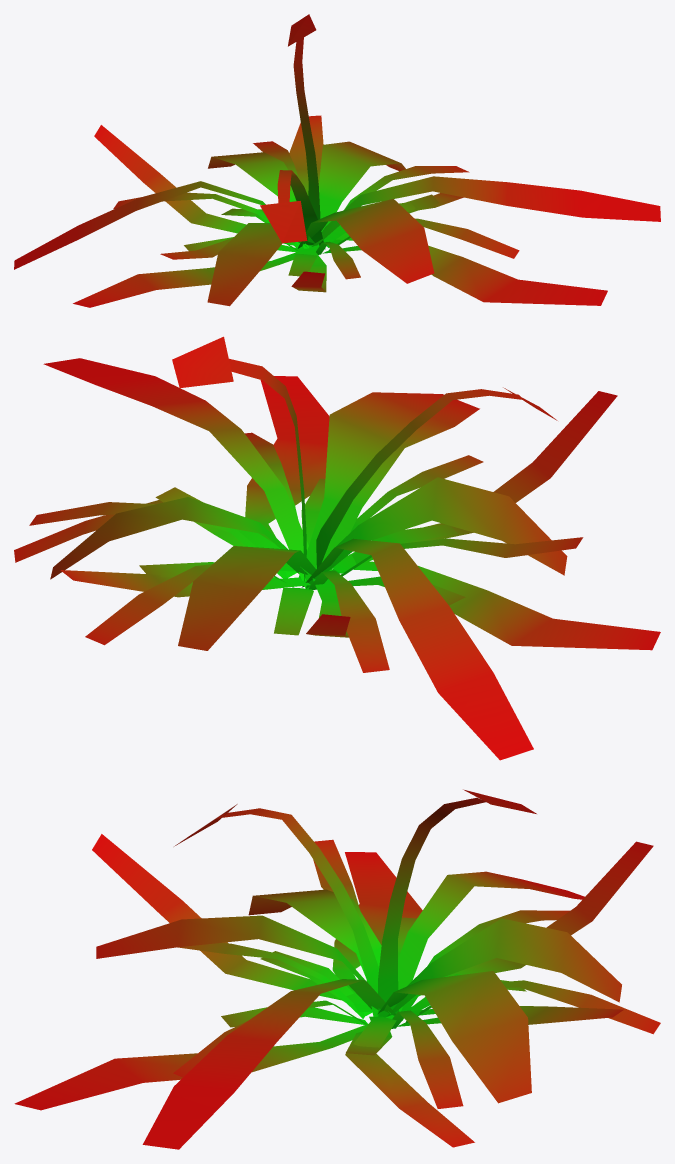
Rendered from Var4_LOD2.fbx.
3 views of the same model, one above another, from view 1: azimuth 30°, elevation 25°; view 2: azimuth 150°, elevation 25°; view 3: azimuth 270°, elevation 25° (orthographic). The views are drawn at different scales.
Visible parts, largest first — view 1: Var4_LOD2; view 2: Var4_LOD2; view 3: Var4_LOD2.
Part boxes in pixels (box(x1,y1,x2,y2)): Var4_LOD2: box(14, 14, 660, 307); Var4_LOD2: box(14, 336, 660, 760); Var4_LOD2: box(14, 789, 660, 1149).
Size of the model in its own units: 52.06 by 20.04 by 42.78.
